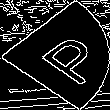P_NW: (12, 24, 98, 86)
